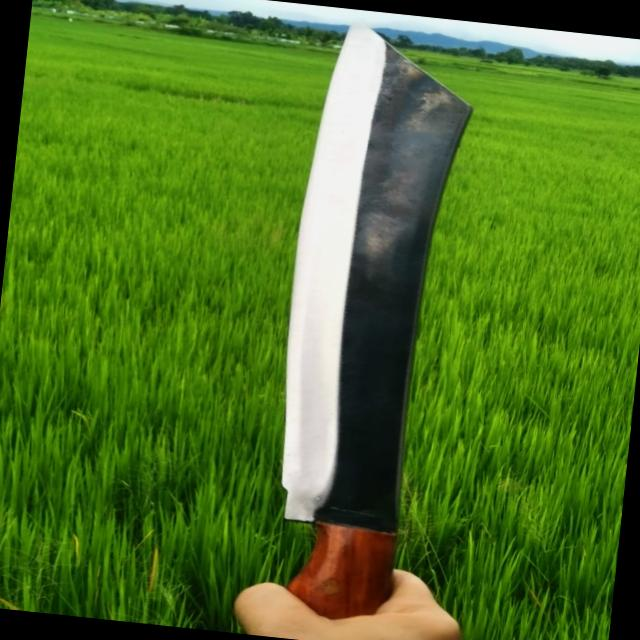eto: (230, 8, 527, 640)
